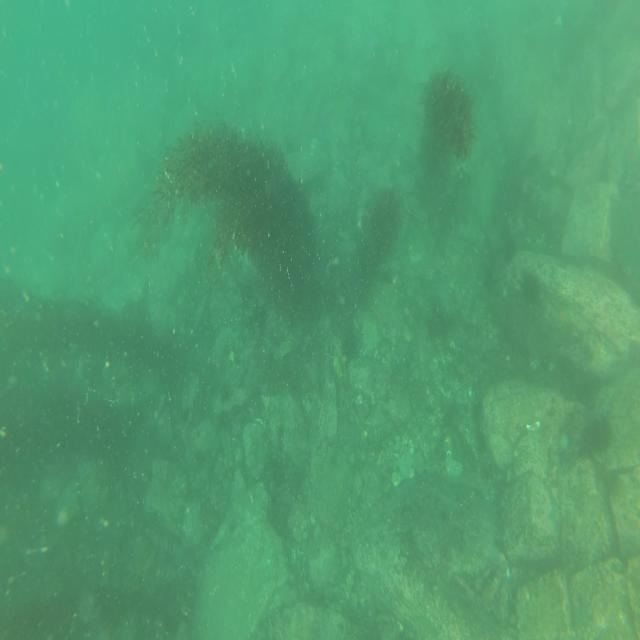echinus: (584, 418, 610, 454), (519, 272, 540, 307)
